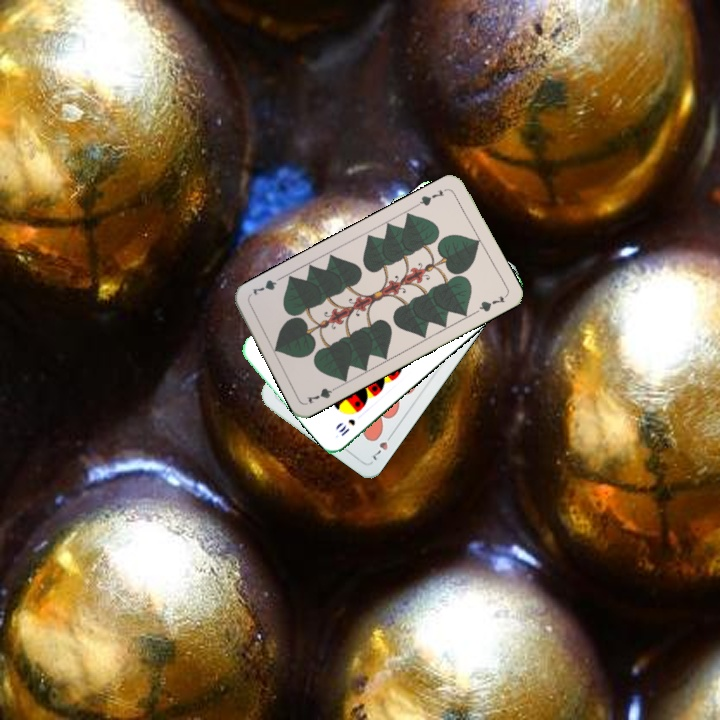G7: (303, 381, 342, 406), (412, 184, 450, 209)
H7: (368, 429, 396, 463)
S10: (335, 415, 358, 439)
